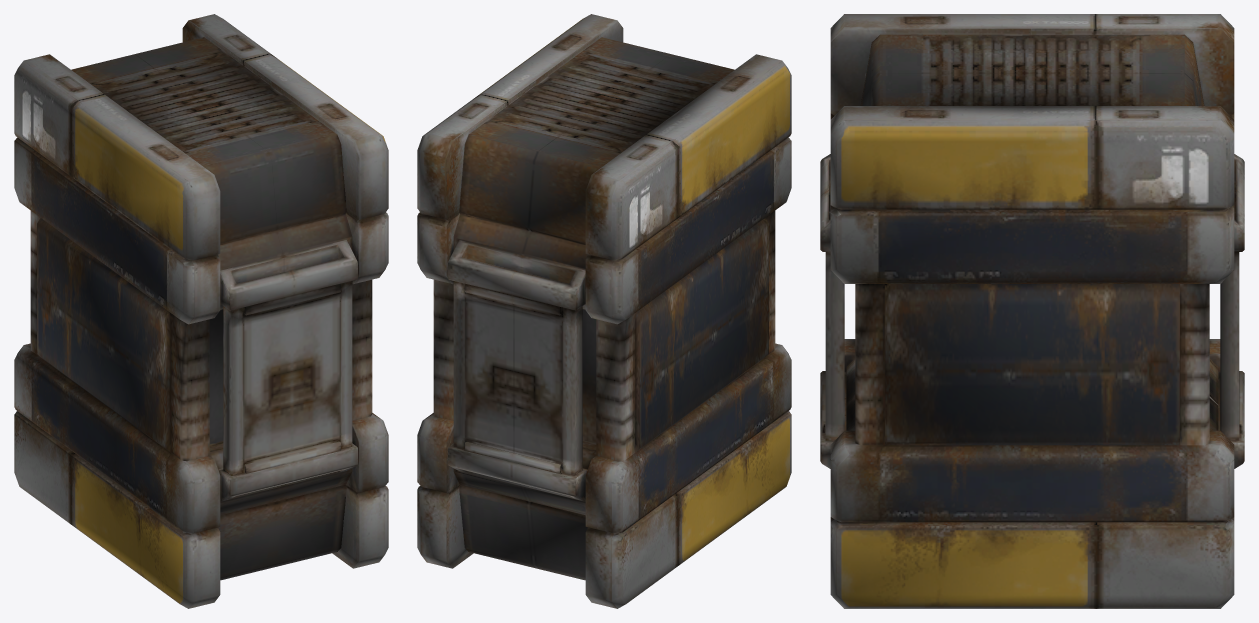
File: Crate01_L_Dirty.FBX
3 renders of one model, left to right at view 1: azimuth 30°, elevation 25°; view 2: azimuth 150°, elevation 25°; view 3: azimuth 270°, elevation 25°, orthographic. The views are drawn at different scales.
Parts seen in each view (by area): view 1: Crate01_L_Dirty; view 2: Crate01_L_Dirty; view 3: Crate01_L_Dirty.
Boxes of the visible parts, left/top/right/bottom form: Crate01_L_Dirty: left=14, top=14, right=388, bottom=608; Crate01_L_Dirty: left=417, top=14, right=791, bottom=608; Crate01_L_Dirty: left=820, top=14, right=1244, bottom=608.
Size of the model in its own units: 1 by 2 by 1.58.
